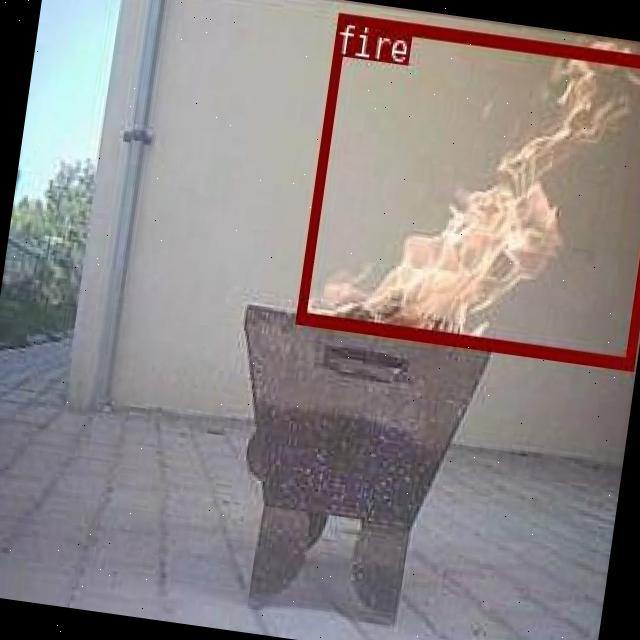fire: (294, 11, 640, 367)
